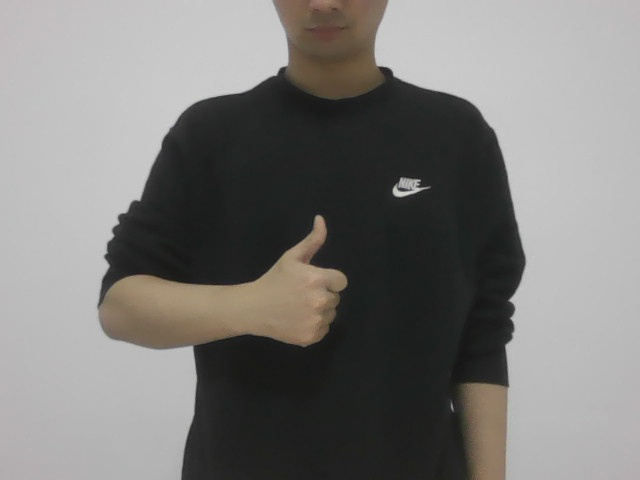good: (250, 200, 351, 350)
